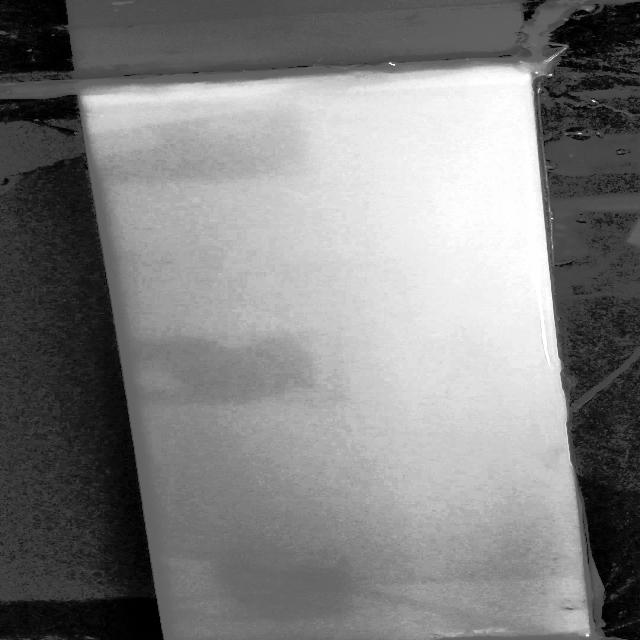shrimp: (548, 601, 586, 615)
